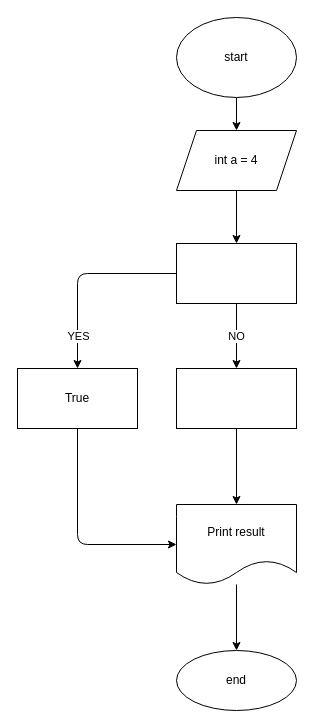
Image size: 314x728. Some labels were removed from this diagram. Each missing label, with the box of its shape:
a % 2==0: (176, 242, 296, 304)
False: (176, 368, 296, 428)
